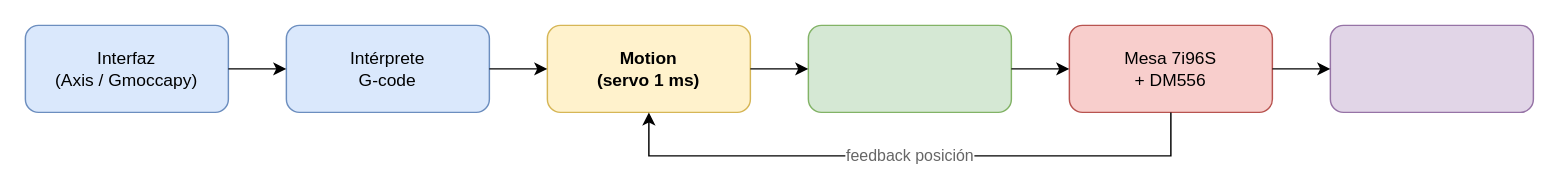
The diagram is 1559 pixels wide and 193 high, and some of its shapes have lost their labels. Each missing label, with the box of its shape:
HAL (cables virtuales): (807, 24, 1011, 112)
PrintNC v4 (X Y Z): (1329, 24, 1533, 112)
